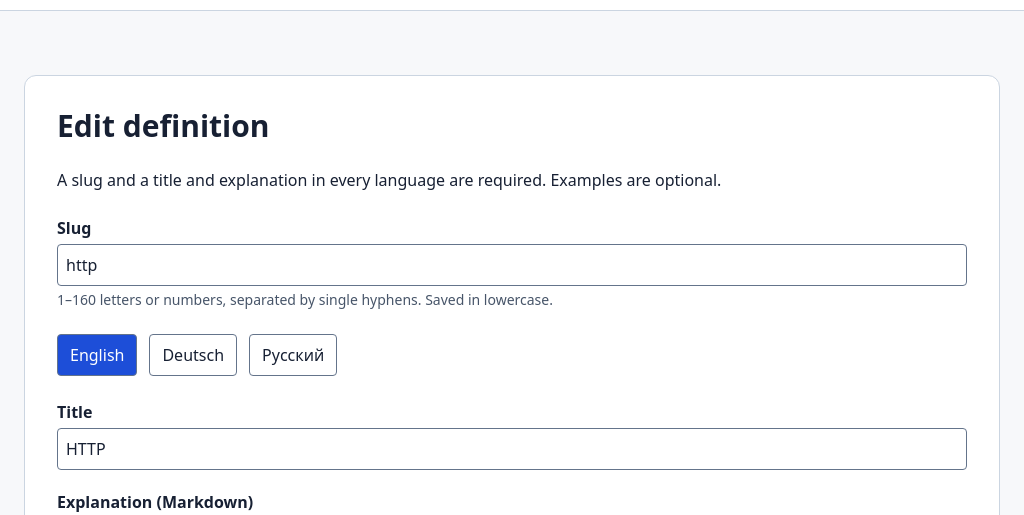
edit submits three translations and renders the saved detail
The image size is (1024, 515).
Replace the text in the field labelled "Title" with "Updated HTTP": (512, 449) x1=57 y1=428 x2=967 y2=470
(page scrolled)
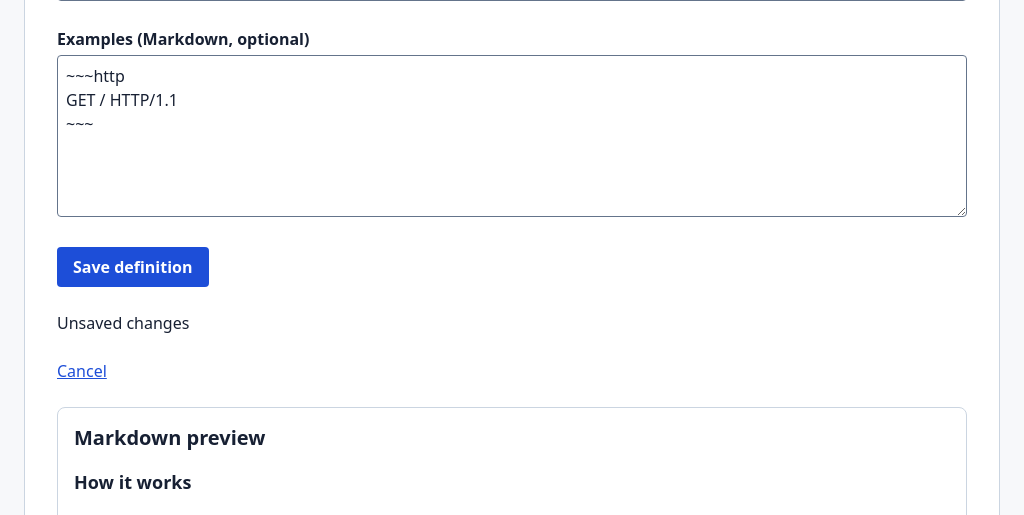
Click the button "Save definition": (133, 267) x1=57 y1=247 x2=208 y2=287
(page scrolled)
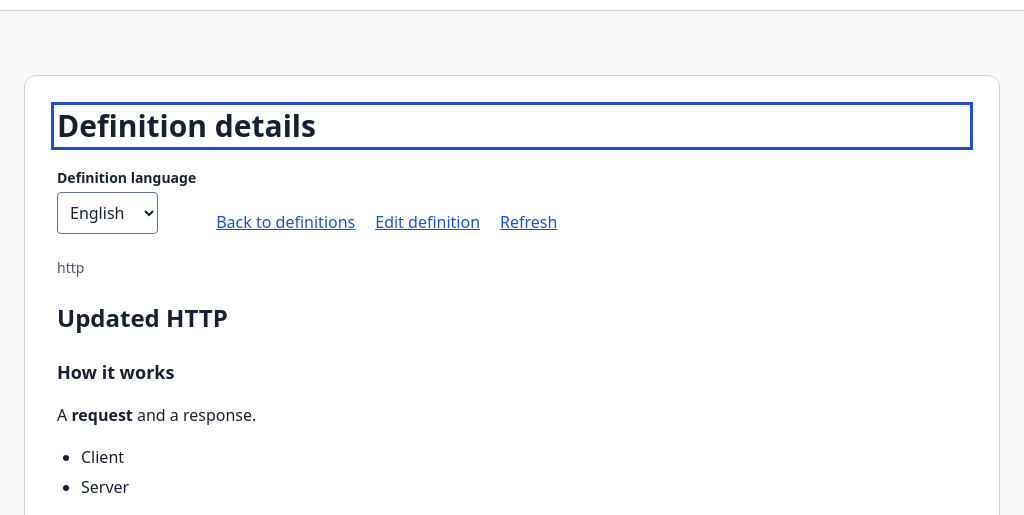
Expected: the heading "Updated HTTP" is shown, x1=57 y1=301 x2=228 y2=334
